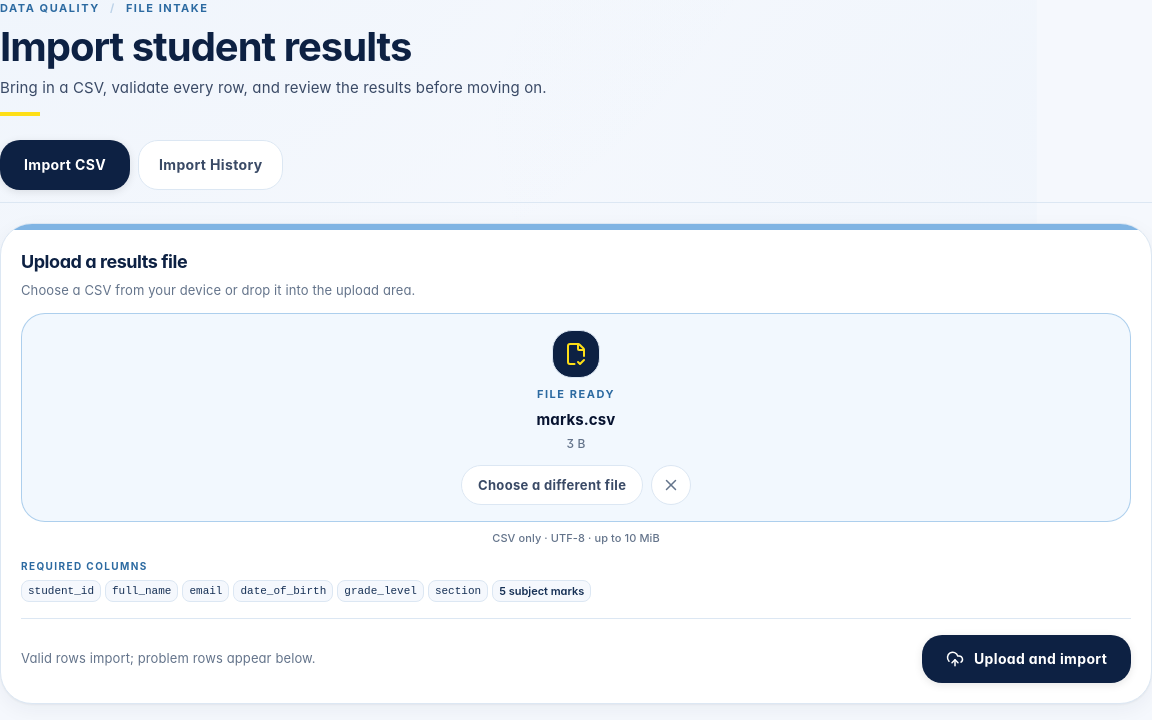
Test: ImportPage › shows friendly messages for duplicate and oversized uploads
Earlier steps of the test are not shown.
Later steps or results of the test are not shown.
Step 1. Click the button "Upload and import" → (1026,659), box [922,635,1131,683]
(page scrolled)
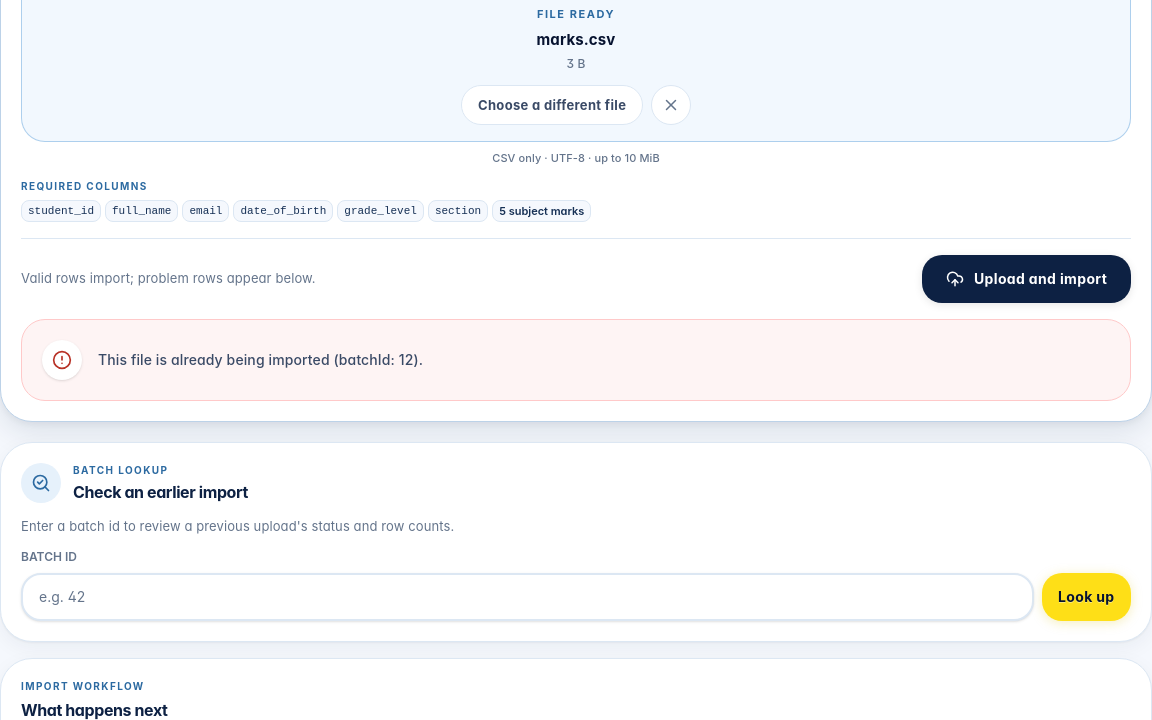
expect the text "This file is already being imported (batchId: 12)." is shown: met, box [98,351,423,368]
